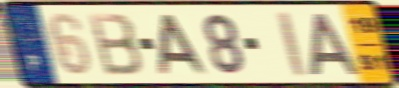6: (46, 11, 94, 78)
8: (202, 11, 247, 77)
A: (309, 11, 363, 77), (157, 13, 210, 76)
B: (85, 11, 146, 78)
I: (274, 9, 309, 79)
